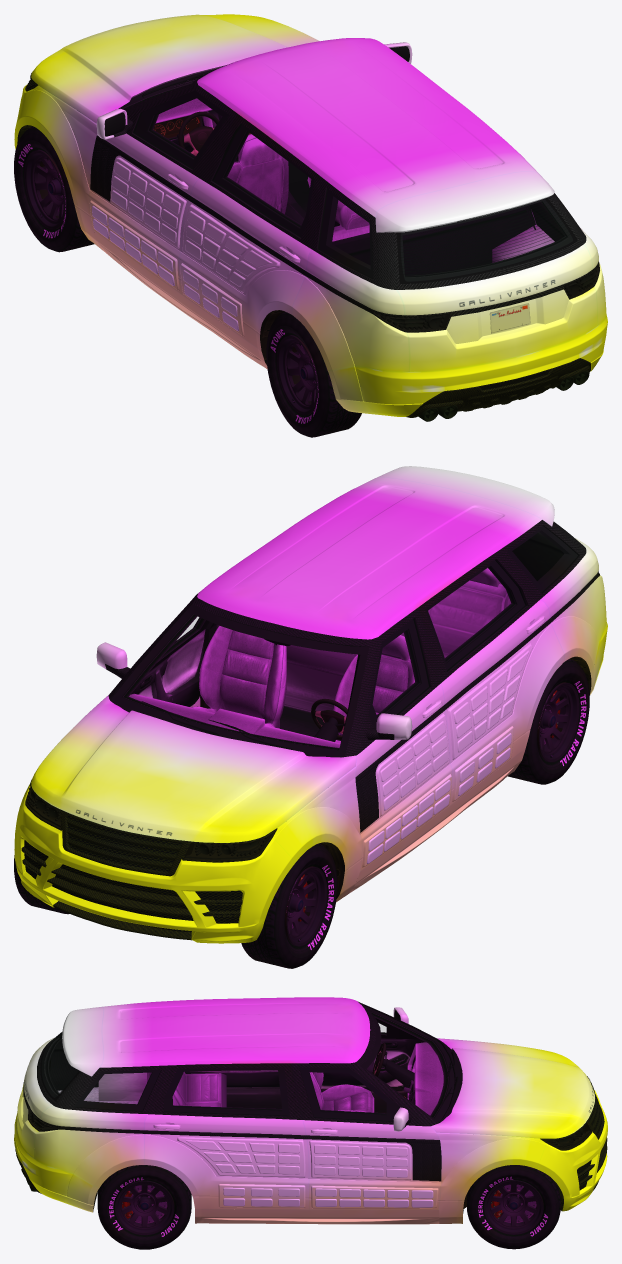
The model's file is baller6.glb.
3 views of the same model, one above another, from view 1: azimuth 30°, elevation 25°; view 2: azimuth 150°, elevation 25°; view 3: azimuth 270°, elevation 25° (orthographic). The views are drawn at different scales.
Parts seen in each view (by area): view 1: bodyshell, boot, door_dside_r, chassis, door_dside_f, bonnet, bumper_r, windscreen_r, wheel_lr, window_lr, wheel_lf, wing_lf (+3 smaller); view 2: bodyshell, chassis, bonnet, bumper_f, door_dside_r, door_dside_f, wheel_lf, wheel_lr, window_lr, wing_lf, boot, door_pside_f (+3 smaller); view 3: bodyshell, door_pside_r, door_pside_f, bonnet, chassis, wheel_rr, wheel_rf, window_rr, boot, wing_rf, window_rf, bumper_f (+5 smaller).
Boxes of the visible parts, left/top/right/bottom form: bodyshell: left=25, top=38, right=606, bottom=371; boot: left=375, top=171, right=597, bottom=371; door_dside_r: left=179, top=115, right=322, bottom=350; chassis: left=121, top=73, right=589, bottom=421; door_dside_f: left=89, top=86, right=236, bottom=294; bonnet: left=31, top=14, right=319, bottom=123; bumper_r: left=328, top=316, right=607, bottom=417; windscreen_r: left=396, top=198, right=577, bottom=283; wheel_lr: left=266, top=312, right=361, bottom=437; window_lr: left=212, top=124, right=313, bottom=237; wheel_lf: left=14, top=126, right=94, bottom=252; wing_lf: left=25, top=85, right=103, bottom=250; bodyshell: left=25, top=477, right=606, bottom=893; chassis: left=109, top=525, right=590, bottom=855; bonnet: left=31, top=695, right=356, bottom=842; bumper_f: left=14, top=785, right=294, bottom=943; door_dside_r: left=418, top=551, right=564, bottom=805; door_dside_f: left=355, top=609, right=452, bottom=870; wheel_lf: left=241, top=843, right=337, bottom=968; wheel_lr: left=508, top=659, right=589, bottom=784; window_lr: left=426, top=560, right=526, bottom=671; wing_lf: left=273, top=766, right=362, bottom=902; boot: left=378, top=466, right=587, bottom=580; door_pside_f: left=96, top=594, right=209, bottom=707; bodyshell: left=34, top=997, right=604, bottom=1224; door_pside_r: left=144, top=1064, right=308, bottom=1209; door_pside_f: left=291, top=1064, right=441, bottom=1209; bonnet: left=431, top=1038, right=594, bottom=1138; chassis: left=26, top=1003, right=466, bottom=1209; wheel_rr: left=97, top=1165, right=191, bottom=1249; wheel_rf: left=467, top=1165, right=560, bottom=1249; window_rr: left=164, top=1068, right=288, bottom=1115; boot: left=17, top=1006, right=103, bottom=1157; wing_rf: left=437, top=1132, right=546, bottom=1223; window_rf: left=300, top=1068, right=398, bottom=1121; bumper_f: left=536, top=1090, right=607, bottom=1211.
Size of the model in its own units: 2.42 by 1.83 by 5.45.
Materials: 22 (22 with a texture image).
